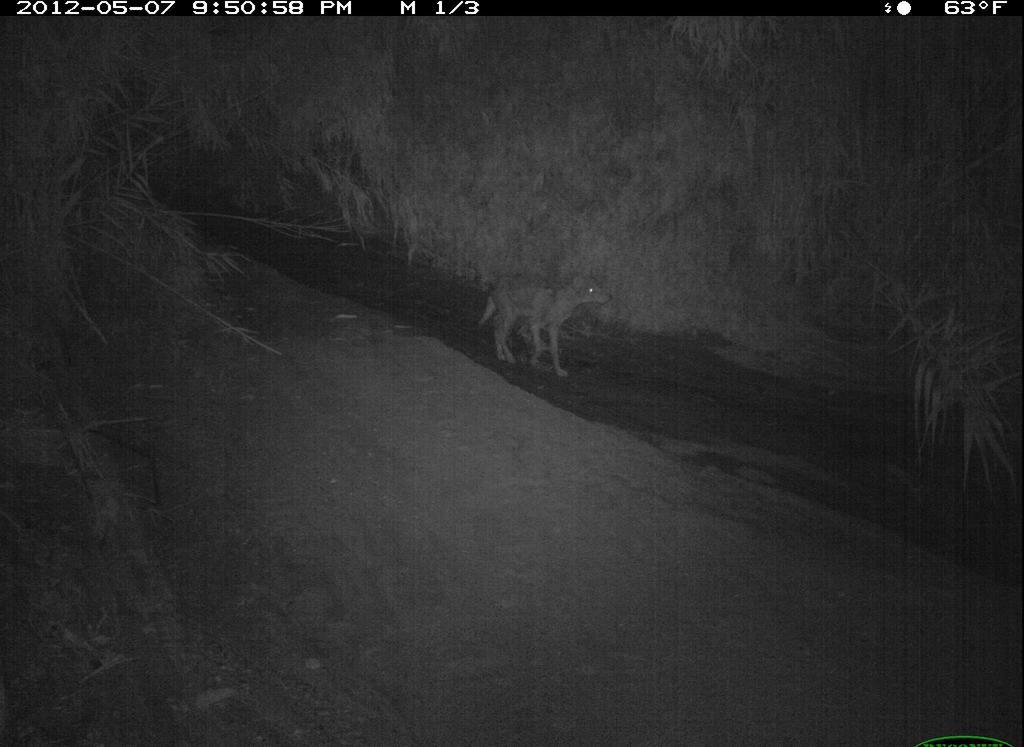coyote: (940, 530, 1024, 747)
